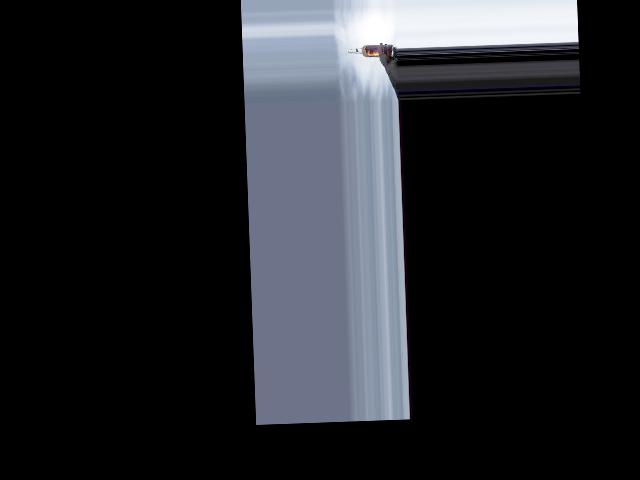beer: (348, 45, 393, 58)
